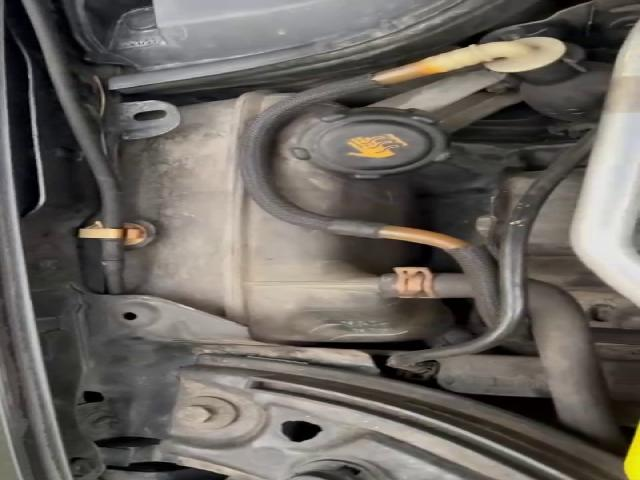antifreeze_tank: (119, 92, 450, 342), (274, 106, 448, 225)
